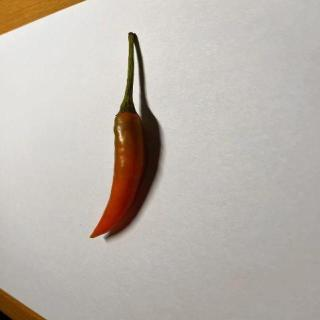Cabai Merah: (90, 32, 145, 239)
